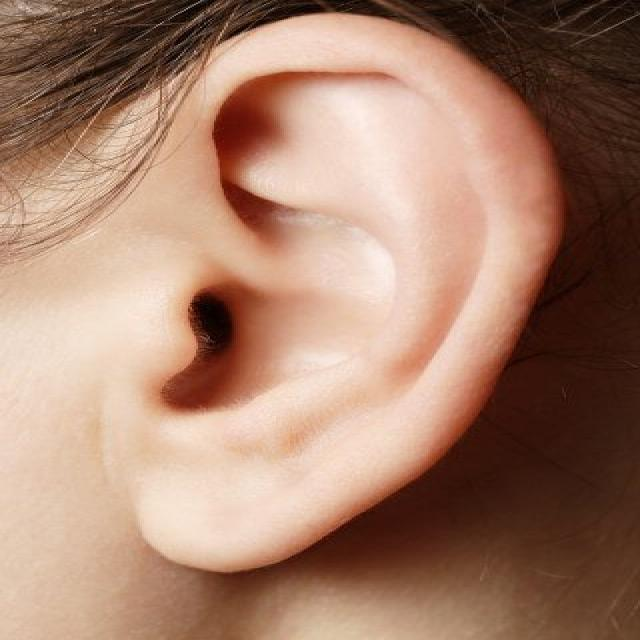earlobe: (100, 405, 296, 576)
wholeear: (100, 14, 566, 576)
